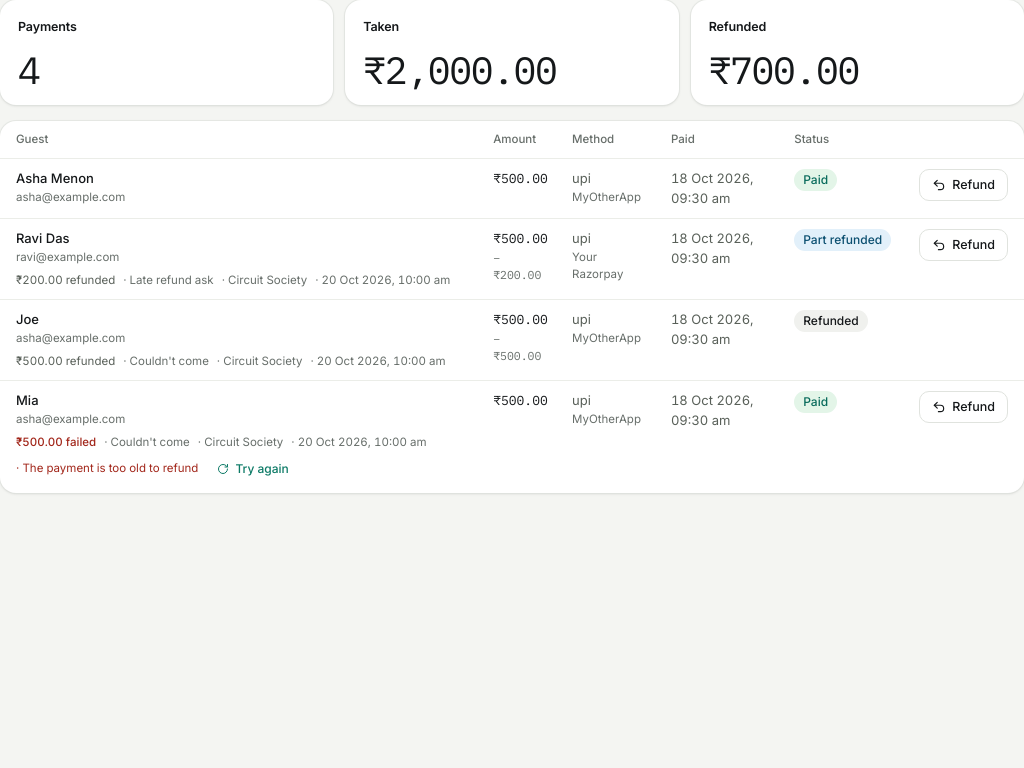
Test: the event's payments › refunds everything left, with the reason and one client_ref, and says the guest was told
This screenshot has width=1024, height=768.
Click the button with aria-label "Refund Asha Menon". click: (964, 185)
box: [919,169,1008,201]
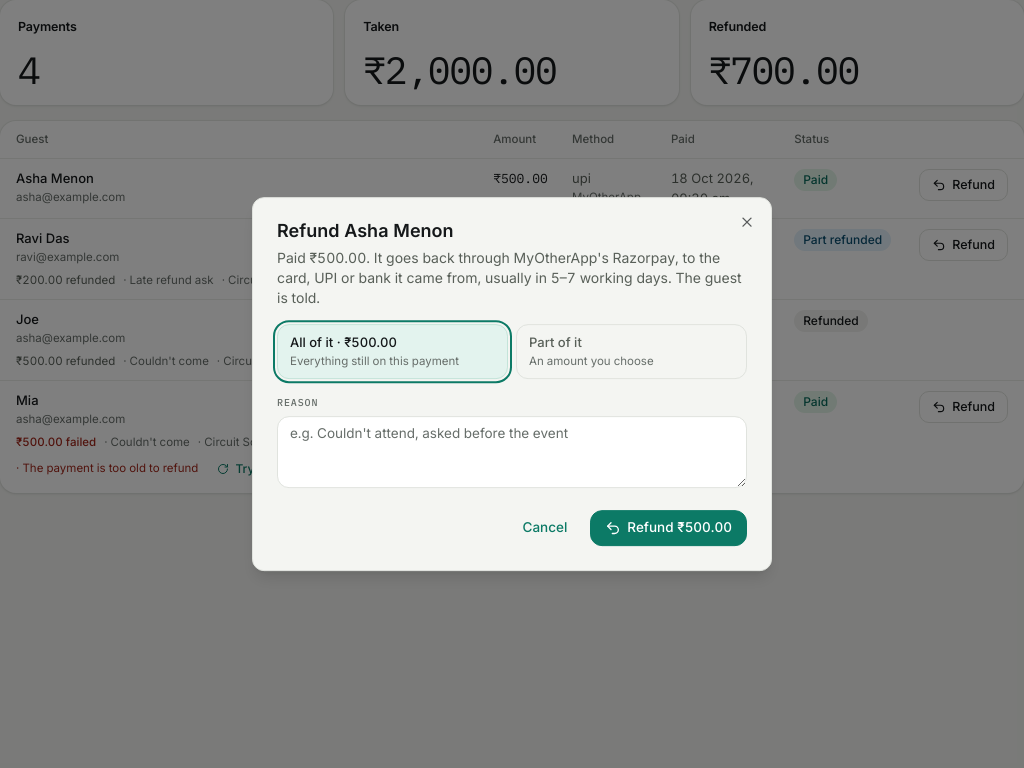
Expected: the dialog shows "MyOtherApp's Razorpay", [514,249,675,266]
Type "Couldn't come" into the text box labelled "Reason". click: (512, 452)
box: [277,416,747,488]
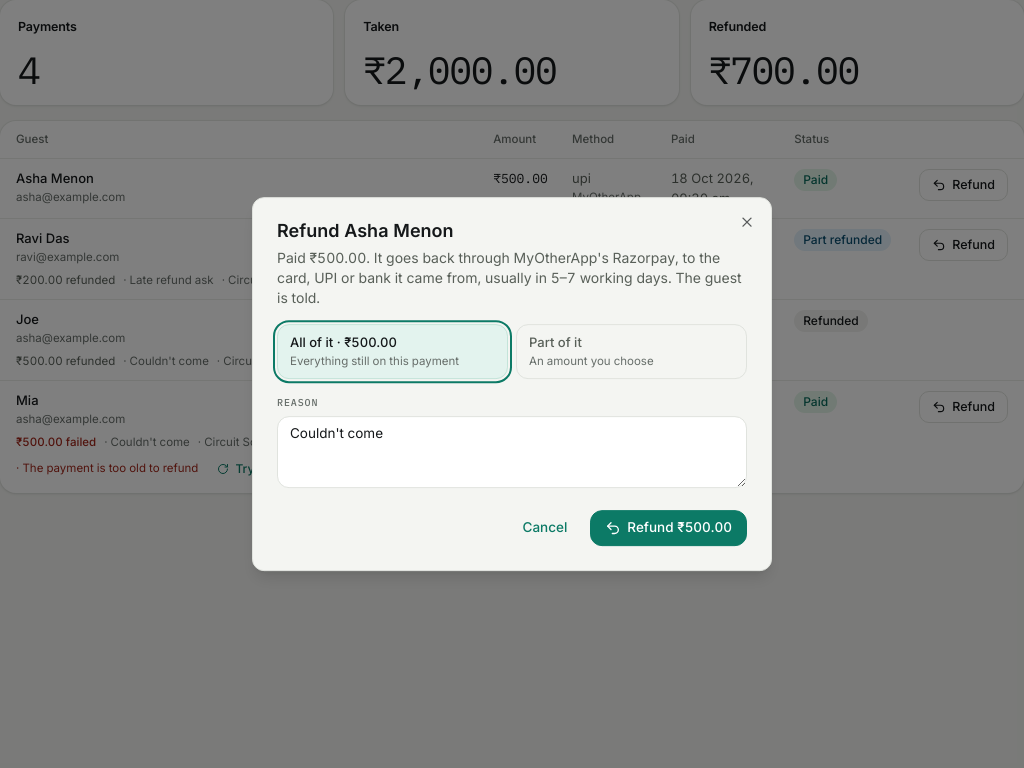
Click the button "Refund ₹500.00". click: (669, 528)
box: [590,510,747,546]
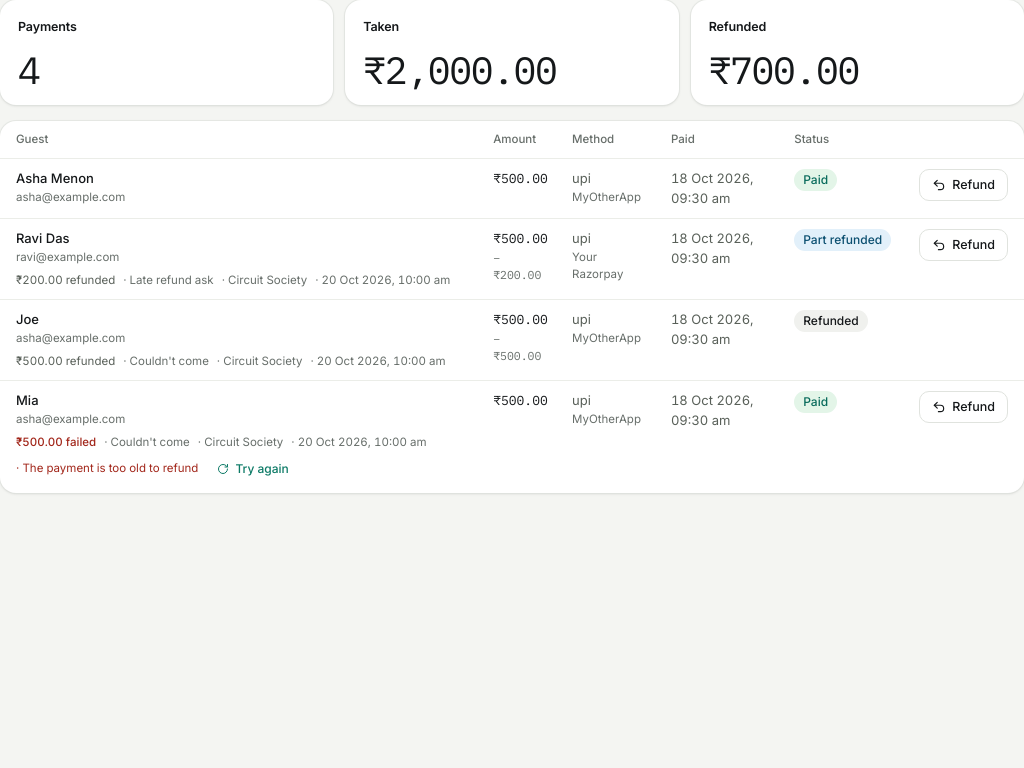
Expected: the dialog is gone
